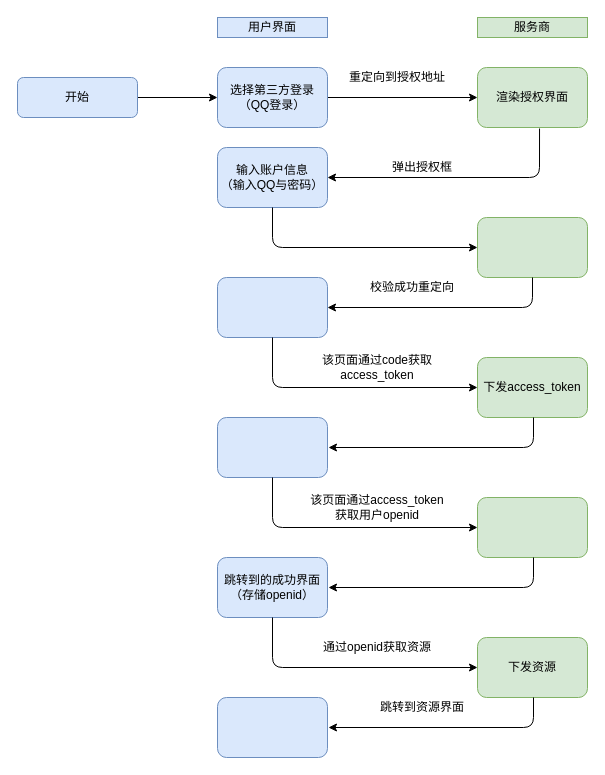
The diagram is 605 pixels wide and 775 high, and some of its shapes have lost their labels. The centre of each missing label's shape, as x and y in pixels:
"下发openid" belongs at (x=532, y=527).
"校验账户信息 生成code" belongs at (x=532, y=247).
"资源界面" belongs at (x=272, y=727).
"跳转到的成功界面 (获取token)" belongs at (x=272, y=307).
"跳转到的成功界面 （存储token）" belongs at (x=272, y=447).
